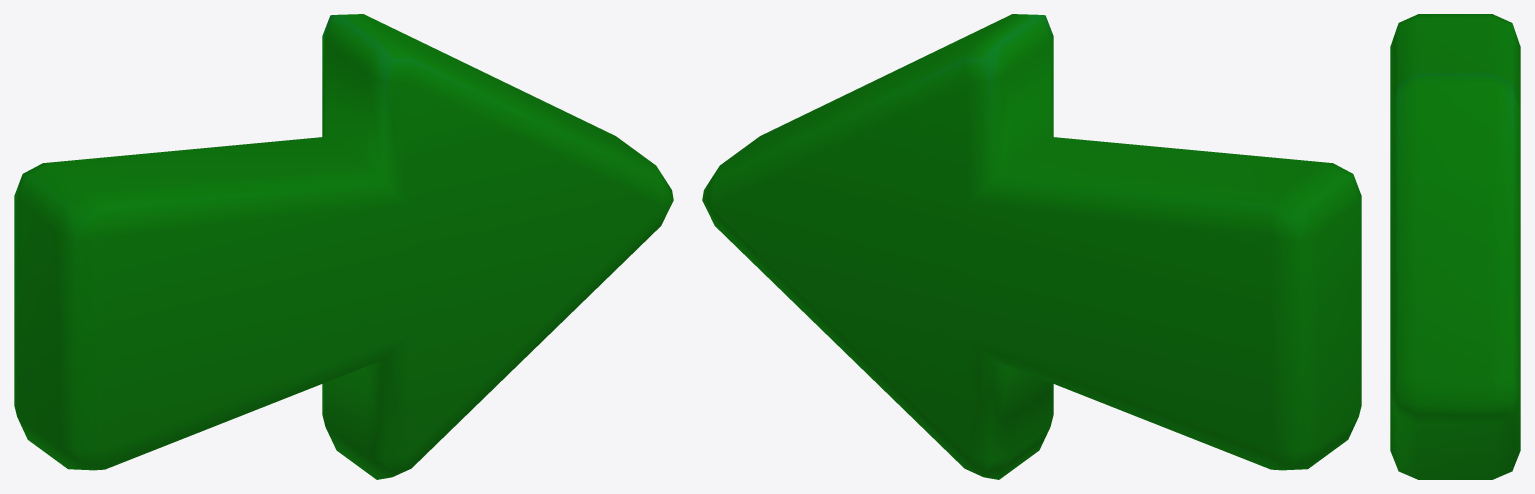
File: arrow.glb
3 renders of one model, left to right at view 1: azimuth 30°, elevation 25°; view 2: azimuth 150°, elevation 25°; view 3: azimuth 270°, elevation 25°, orthographic. The views are drawn at different scales.
Visible parts, largest first — view 1: arrow; view 2: arrow; view 3: arrow.
Boxes of the visible parts, bbox=[...] form: arrow: bbox=[14, 14, 673, 479]; arrow: bbox=[702, 14, 1361, 479]; arrow: bbox=[1390, 14, 1520, 479].
Bounding box in the file's own units: 0.5859 × 0.3968 × 0.1172.
1 material, 1 textured.
